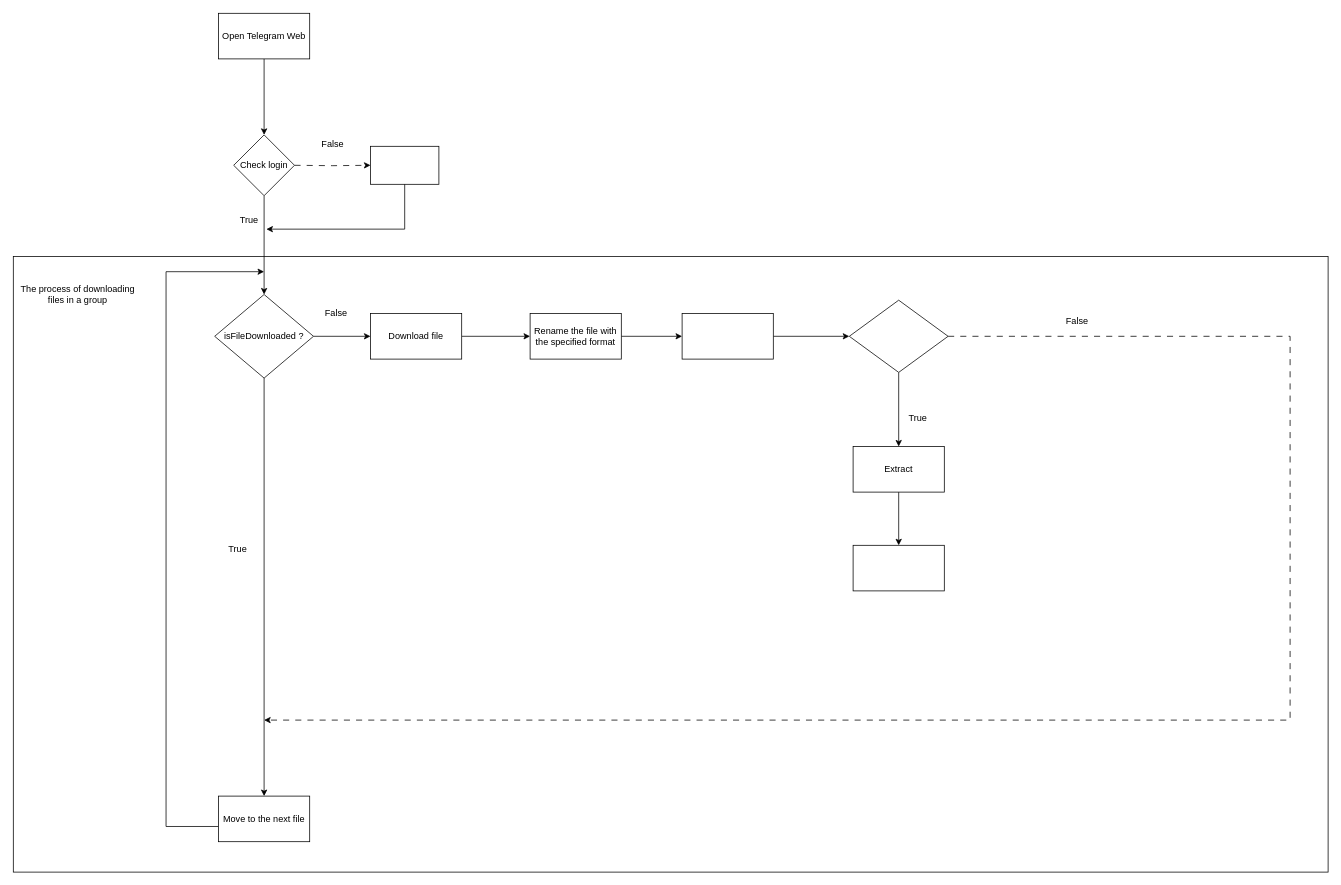
The diagram is 1341 pixels wide and 885 high, and some of its shapes have lost their labels. The shapes that lost their labels are listed below. From the top down, each one's centre as x and y in pixels, then its label:
At point (404, 165): "Login".
At point (727, 336): "Save file information to database".
At point (898, 335): "isCompressedFile ?".
At point (898, 568): "Delete downloaded compressed file".
